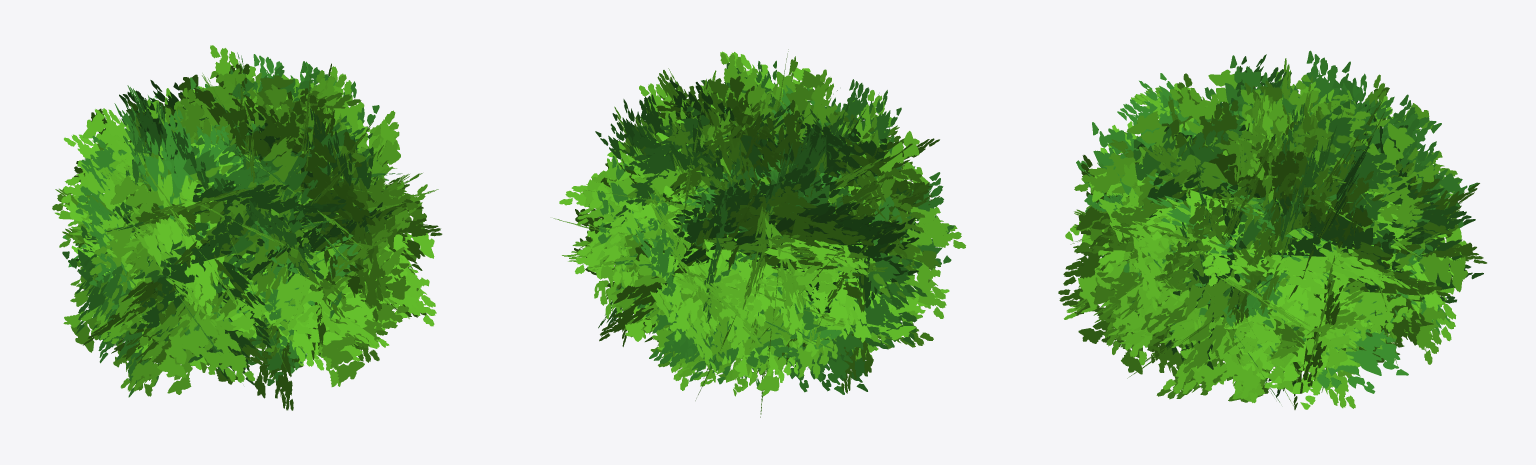
Rendered from floweruntitled_new.fbx.
The picture shows the model from 3 angles, left to right: view 1: azimuth 30°, elevation 25°; view 2: azimuth 150°, elevation 25°; view 3: azimuth 270°, elevation 25°; orthographic projection. The views are drawn at different scales.
Visible parts, largest first — view 1: Bush; view 2: Bush; view 3: Bush.
Boxes of the visible parts, box(x1,y1,x2,y2) form: Bush: box(52, 45, 442, 410); Bush: box(553, 49, 965, 417); Bush: box(1058, 50, 1486, 409).
Size of the model in its own units: 1254 by 1062 by 1240.
1 material, 1 textured.
